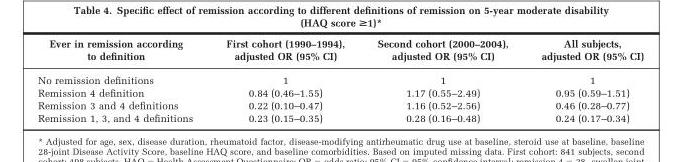table: (37, 36, 643, 123)
table column: (37, 36, 208, 123), (360, 36, 523, 123), (208, 36, 360, 123), (523, 36, 643, 123)
table column header: (37, 36, 643, 67)
table row: (37, 36, 643, 67), (37, 67, 643, 85), (37, 85, 643, 98), (37, 98, 643, 111), (37, 111, 643, 123)
